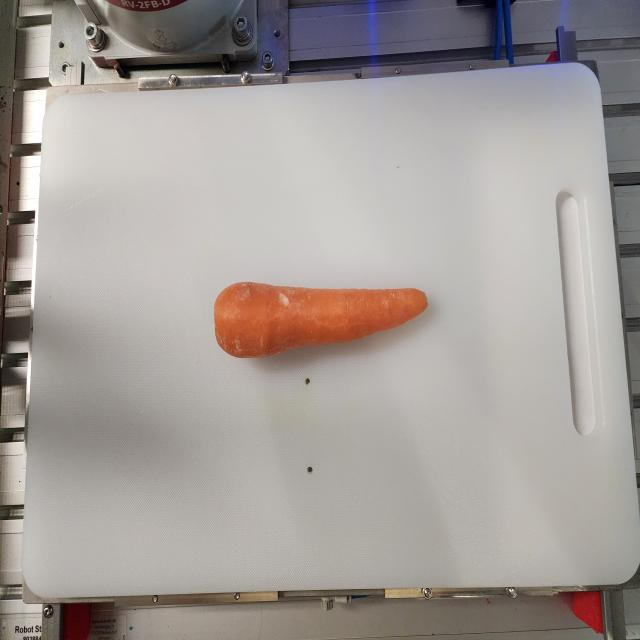carrot: (213, 280, 428, 359)
